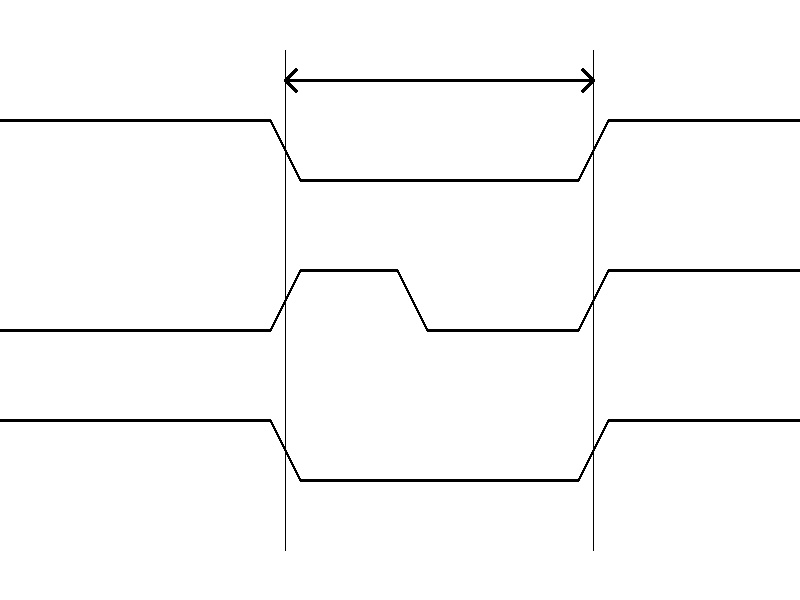double_arrow: (285, 65, 593, 95)
